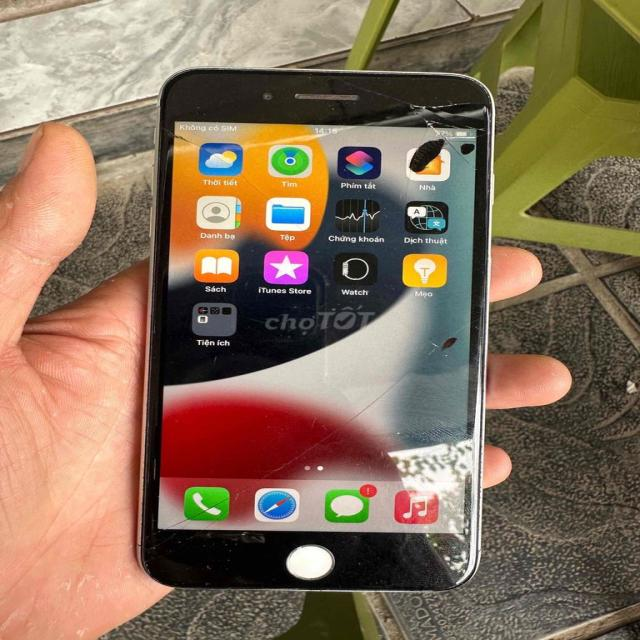gen_7_8: (129, 51, 501, 600)
